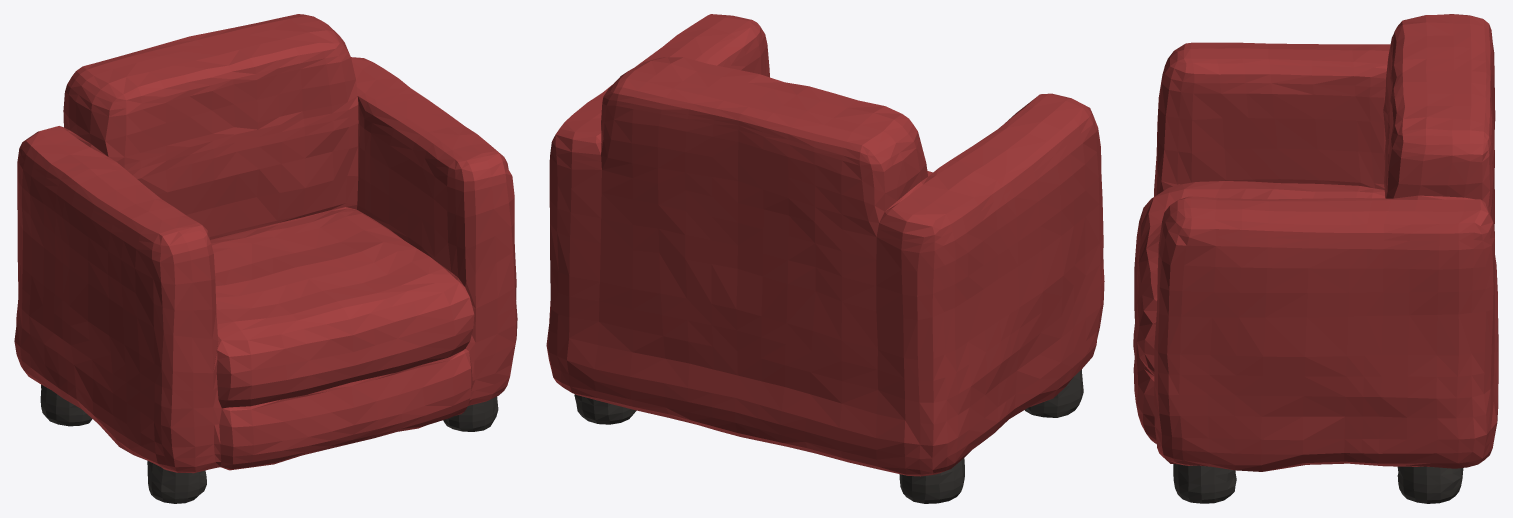
Rendered from PinkModernClubChair.glb.
3 renders of one model, left to right at view 1: azimuth 30°, elevation 25°; view 2: azimuth 150°, elevation 25°; view 3: azimuth 270°, elevation 25°, orthographic. The views are drawn at different scales.
Size of the model in its own units: 0.0773 by 0.0647 by 0.0617.
1 material, 1 textured.
